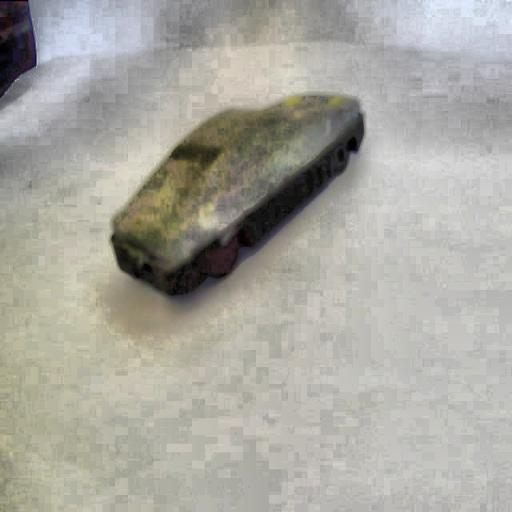normal_car: (98, 84, 368, 306)
